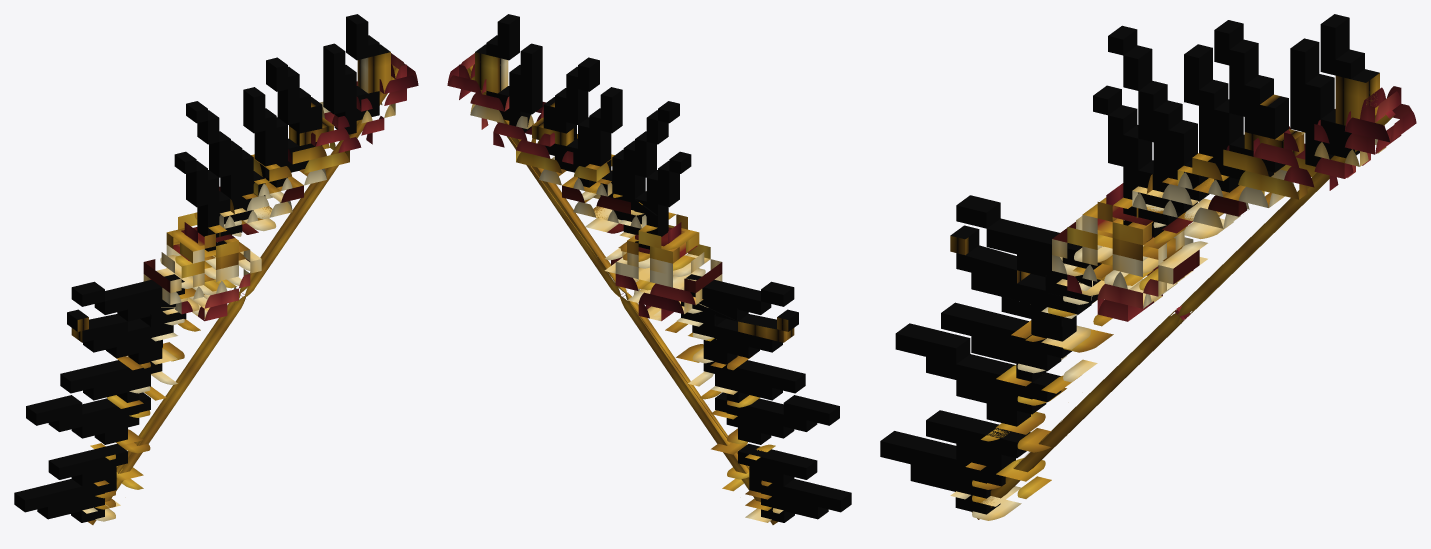
Rendered from phoenix_wing.obj.
3 renders of one model, left to right at view 1: azimuth 30°, elevation 25°; view 2: azimuth 150°, elevation 25°; view 3: azimuth 330°, elevation 25°, orthographic. The views are drawn at different scales.
Visible parts, largest first — view 1: fire, lit; view 2: fire, lit; view 3: fire, lit.
Part boxes in pixels (box(x1,y1,x2,y2)): fire: box(14, 14, 390, 522); lit: box(82, 53, 418, 524); fire: box(475, 14, 851, 522); lit: box(447, 53, 783, 524); fire: box(880, 14, 1379, 514); lit: box(950, 86, 1416, 520).
Bounding box in the file's own units: 1.06 × 1.16 × 0.125.
